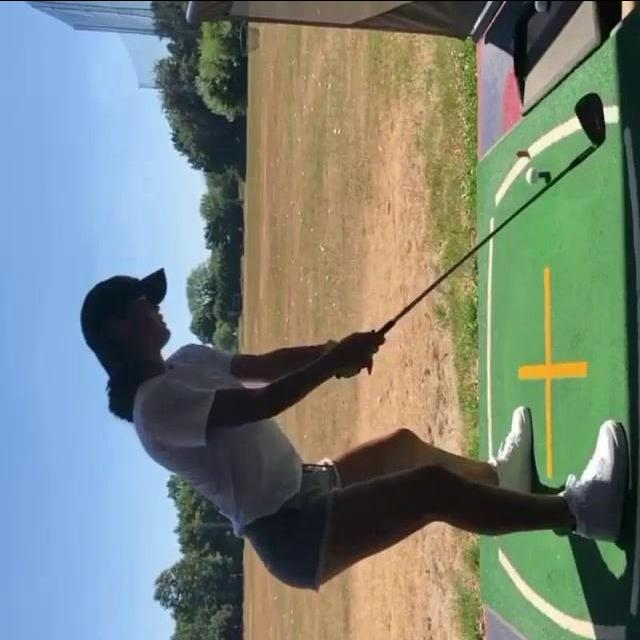ClubHandle: (333, 87, 613, 383)
ClubHead: (570, 89, 607, 150)
GolfBall: (521, 162, 542, 185)
